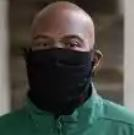with_facemask: (22, 52, 90, 100)
